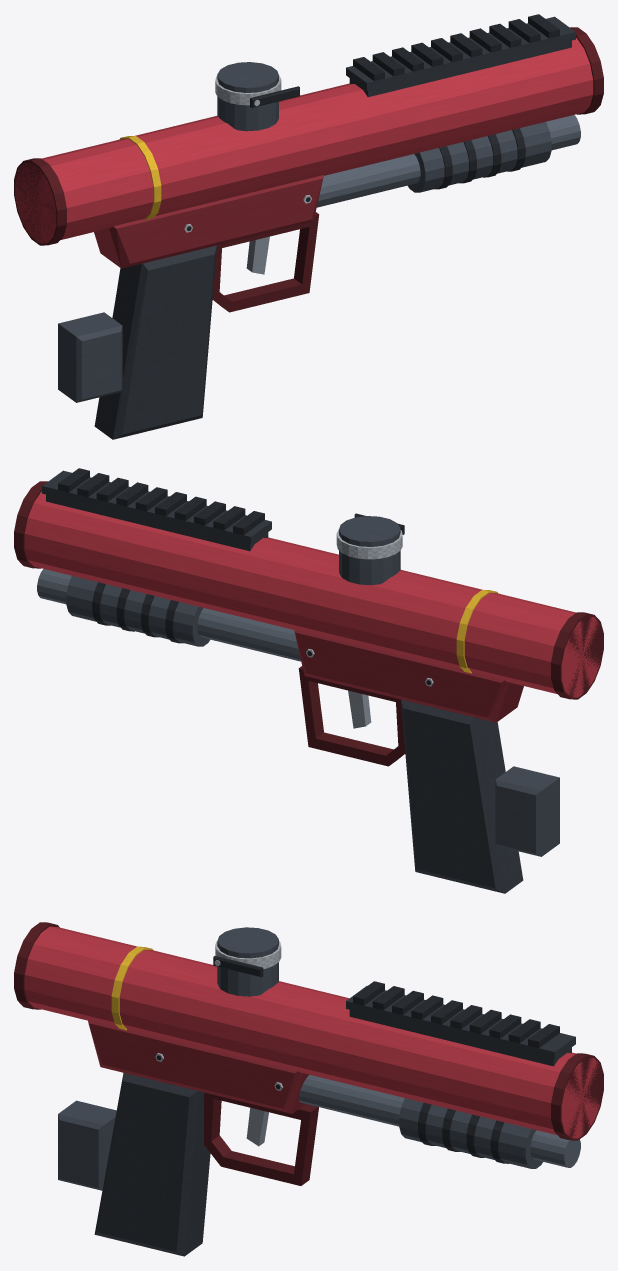
Rendered from phantom_v2.glb.
3 views of the same model, one above another, from view 1: azimuth 30°, elevation 25°; view 2: azimuth 150°, elevation 25°; view 3: azimuth 330°, elevation 25° (orthographic).
Parts seen in each view (by area): view 1: body; view 2: body; view 3: body.
Part boxes in pixels (x1,y1,x2,y2): body: [14, 14, 603, 439]; body: [14, 468, 603, 893]; body: [14, 922, 603, 1256].
Size of the model in its own units: 0.45 by 0.254 by 0.0618.
12 materials, 12 textured.
